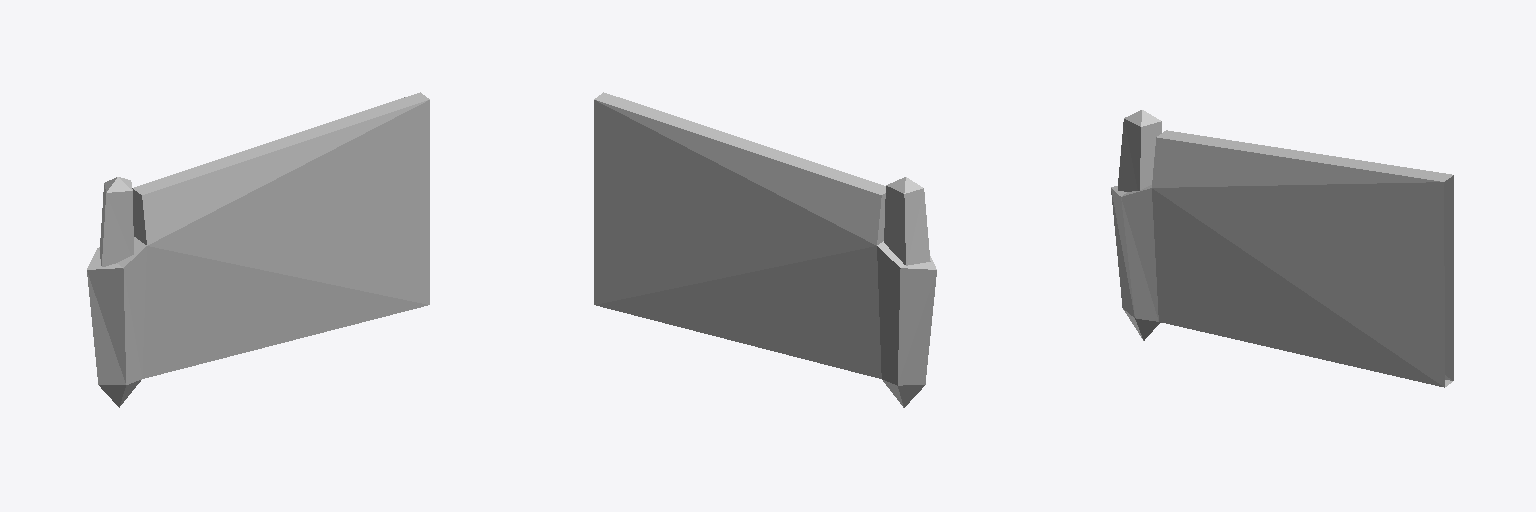
Rendered from buzzlightyRightWing2.obj.
The picture shows the model from 3 angles: view 1: azimuth 30°, elevation 25°; view 2: azimuth 150°, elevation 25°; view 3: azimuth 330°, elevation 25°; orthographic projection.
Visible parts, largest first — view 1: buzzlightyRightWing2_buzzlighty.003; view 2: buzzlightyRightWing2_buzzlighty.003; view 3: buzzlightyRightWing2_buzzlighty.003.
Boxes of the visible parts, <box> form: buzzlightyRightWing2_buzzlighty.003: <box>87,92,429,407</box>; buzzlightyRightWing2_buzzlighty.003: <box>594,92,936,407</box>; buzzlightyRightWing2_buzzlighty.003: <box>1111,110,1453,387</box>.
Bounding box in the file's own units: 0.25 × 0.1677 × 0.0338.